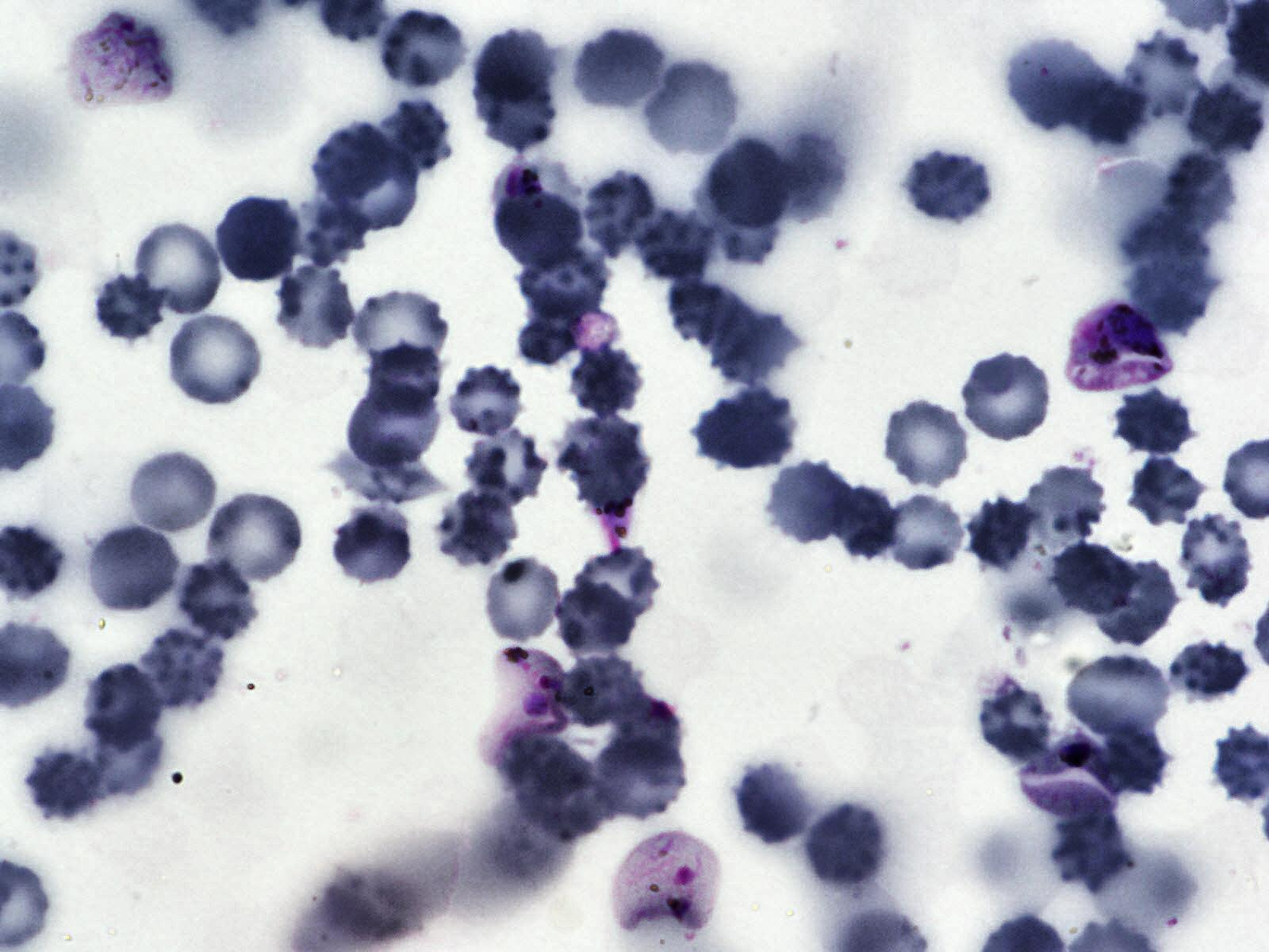Infected: (612, 832, 723, 939), (67, 8, 174, 113), (1063, 302, 1175, 397), (480, 647, 566, 763), (1018, 731, 1121, 818), (493, 155, 584, 210)
Uninfected: (670, 282, 794, 385), (507, 735, 611, 842), (641, 60, 741, 158), (554, 418, 650, 509), (355, 286, 448, 378), (1006, 40, 1099, 131), (694, 389, 794, 473), (1067, 655, 1167, 739), (169, 314, 258, 404), (209, 496, 301, 582), (88, 524, 178, 611), (696, 171, 779, 265), (707, 136, 793, 226), (347, 382, 439, 466), (766, 459, 854, 546), (1087, 558, 1177, 643), (515, 242, 610, 321), (81, 662, 166, 750), (136, 225, 220, 313), (335, 143, 419, 231), (328, 436, 439, 502), (217, 195, 301, 282), (965, 355, 1050, 440), (171, 557, 256, 641), (139, 628, 224, 711), (496, 195, 587, 272), (884, 401, 968, 484), (575, 30, 663, 109), (596, 739, 684, 818), (473, 64, 554, 149), (460, 428, 545, 509), (129, 453, 216, 532), (630, 205, 713, 286), (1128, 261, 1220, 334), (772, 136, 848, 224), (575, 548, 658, 628), (380, 10, 465, 88), (1181, 514, 1250, 609), (277, 263, 353, 348), (806, 803, 884, 885), (1120, 212, 1210, 283), (582, 171, 655, 258), (1049, 543, 1135, 616), (565, 343, 646, 420), (734, 764, 811, 845), (1165, 151, 1235, 240), (314, 121, 389, 204), (1123, 33, 1198, 116), (1026, 466, 1106, 543), (884, 494, 965, 570), (290, 194, 371, 270), (827, 478, 900, 562), (1110, 387, 1196, 457), (332, 505, 411, 581), (485, 559, 560, 639), (438, 492, 517, 566), (907, 151, 989, 222), (1050, 820, 1128, 894), (475, 29, 554, 102), (1068, 78, 1152, 146), (563, 655, 642, 727), (366, 342, 441, 417), (375, 100, 450, 175), (980, 682, 1052, 760), (91, 721, 165, 796), (611, 694, 684, 770), (558, 581, 631, 656), (1184, 83, 1262, 152), (1128, 456, 1206, 524), (27, 747, 98, 821), (1096, 727, 1172, 795), (451, 367, 523, 438), (94, 274, 165, 343), (968, 496, 1035, 567), (1172, 641, 1250, 699)
